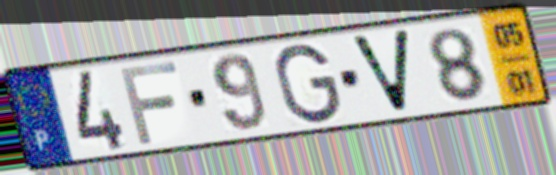4: (74, 68, 127, 154)
8: (424, 26, 492, 104)
9: (209, 52, 270, 134)
F: (116, 58, 182, 147)
G: (271, 41, 344, 127)
V: (345, 26, 414, 117)
